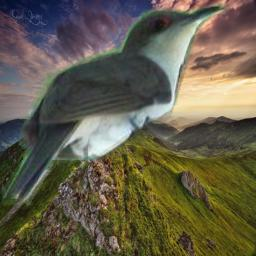Cuckoo: (2, 3, 229, 207)
